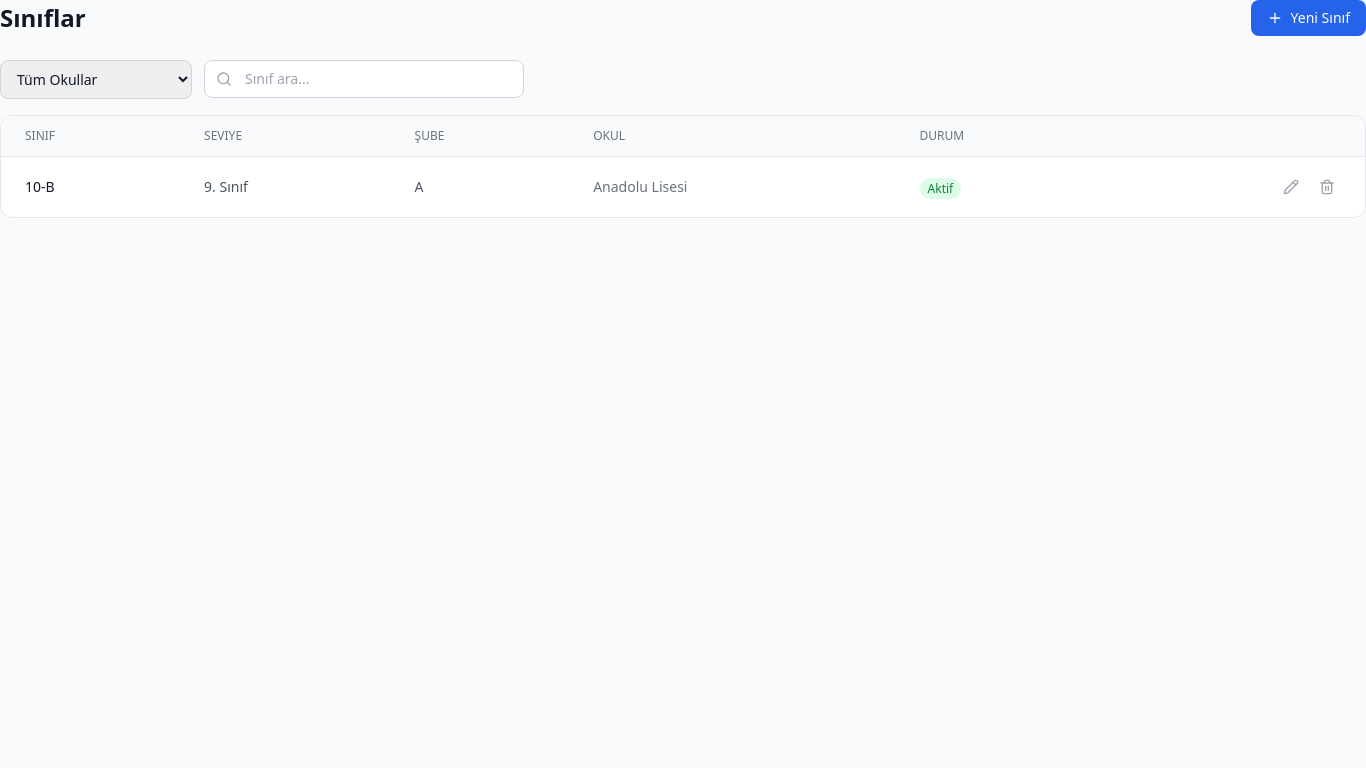
Test case: ClassesPage › düzenle butonuna tıklayınca modal "Sınıfı Düzenle" başlığıyla açılır
The width and height of the screenshot is (1366, 768).
Expected: the text "10-B" is shown, [1, 156, 180, 217]
What coordinates should you click on to do the following:
click the button titled "Düzenle"
I would click on:
 (1291, 187)
Its box is [1277, 173, 1305, 201].
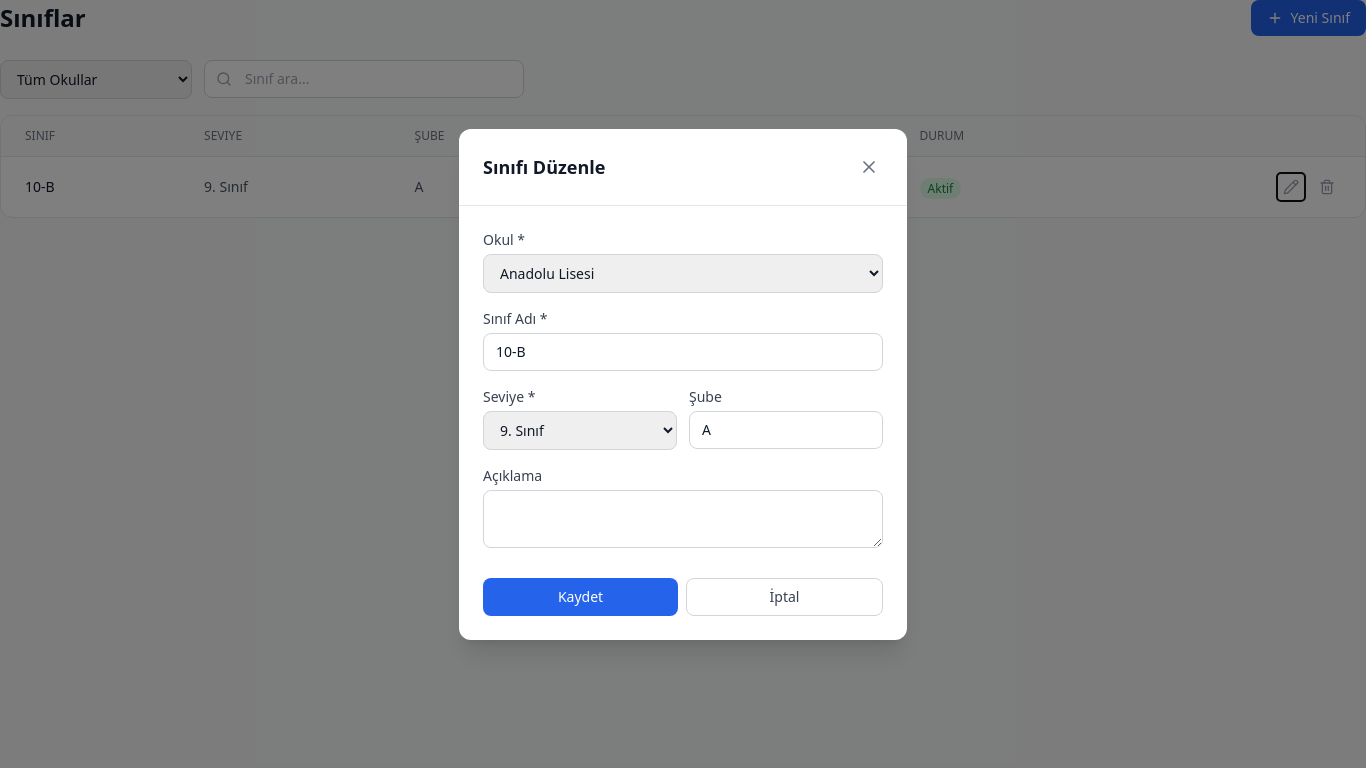
Result: the heading "Sınıfı Düzenle" is shown at [483, 152, 605, 180]
